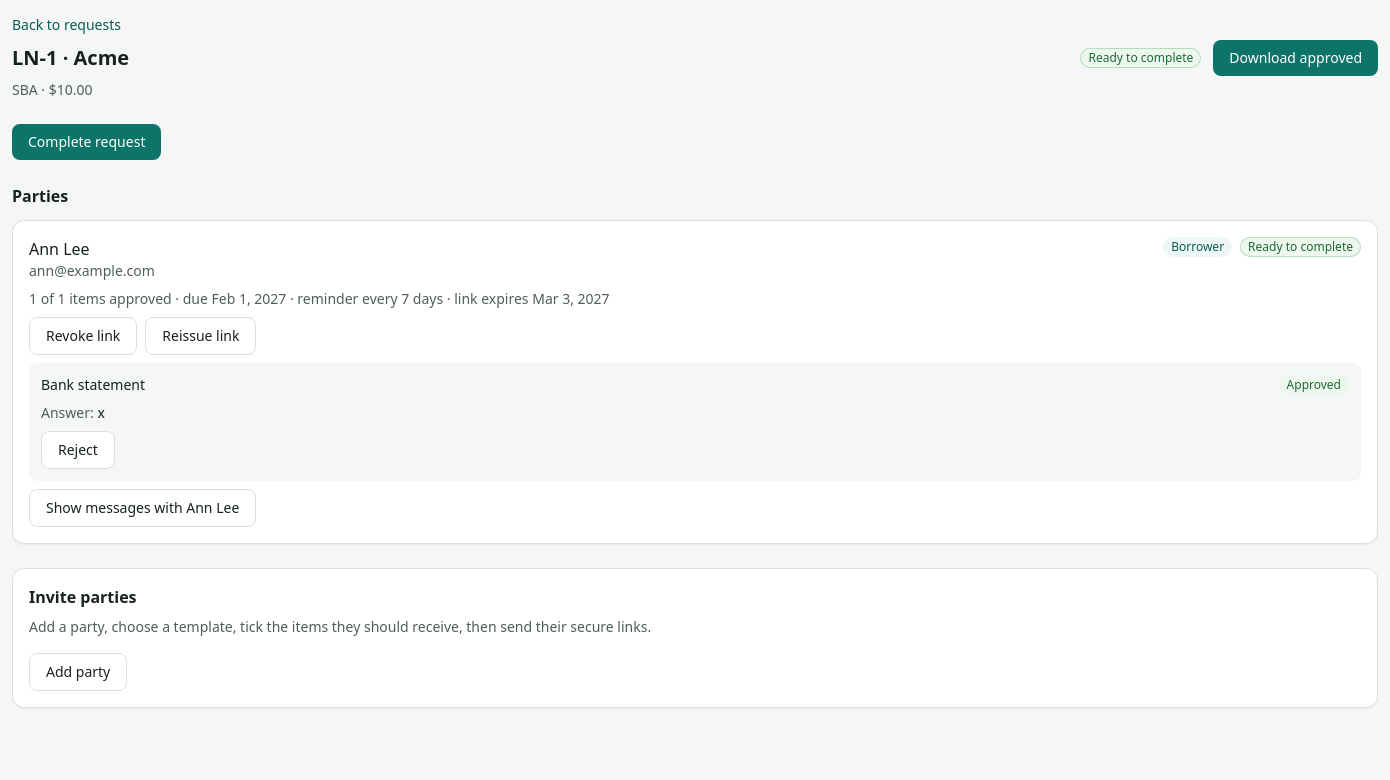
request completion › shows a refused completion to the user
This screenshot has width=1390, height=780.
Click the button "Complete request" at (87, 142), box [12, 124, 161, 160]
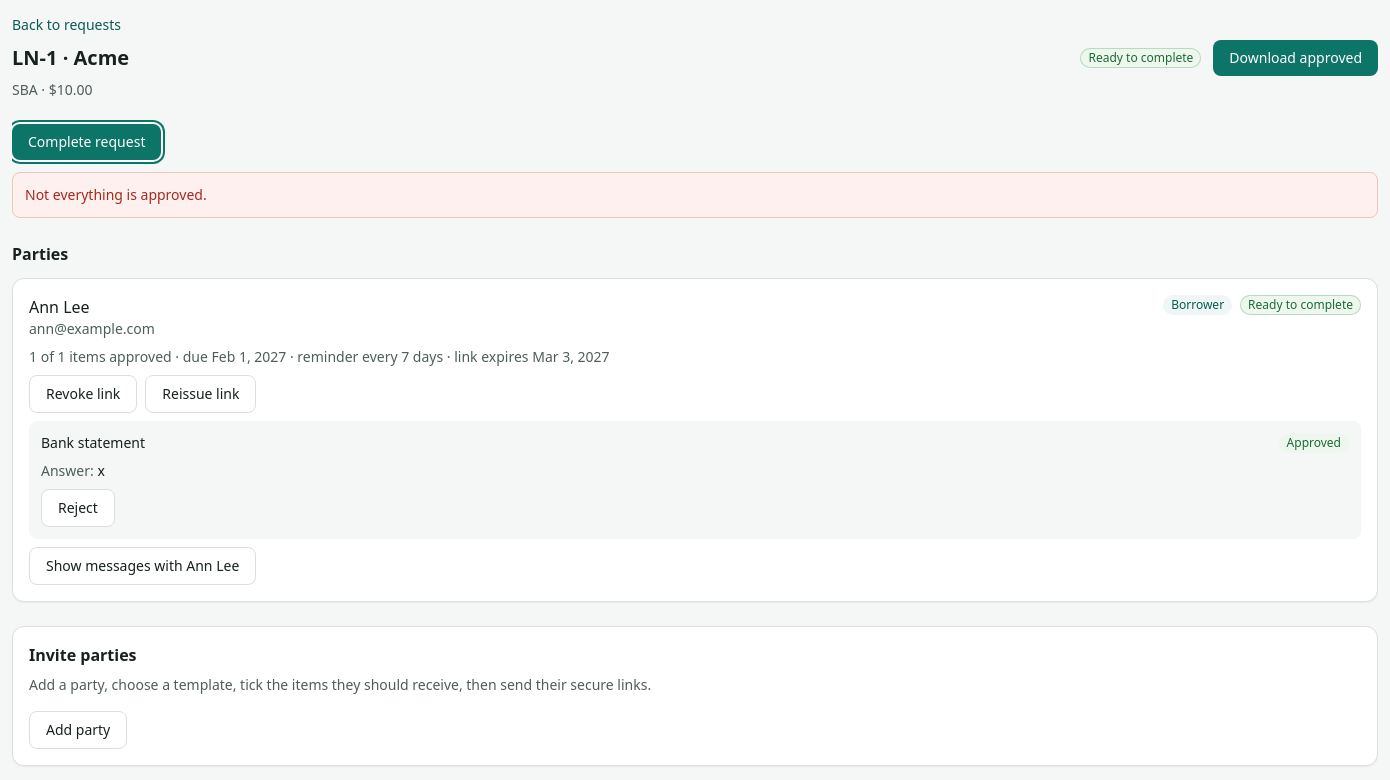
Expected: the list item "Not everything is approved." is shown, [25, 185, 207, 204]
